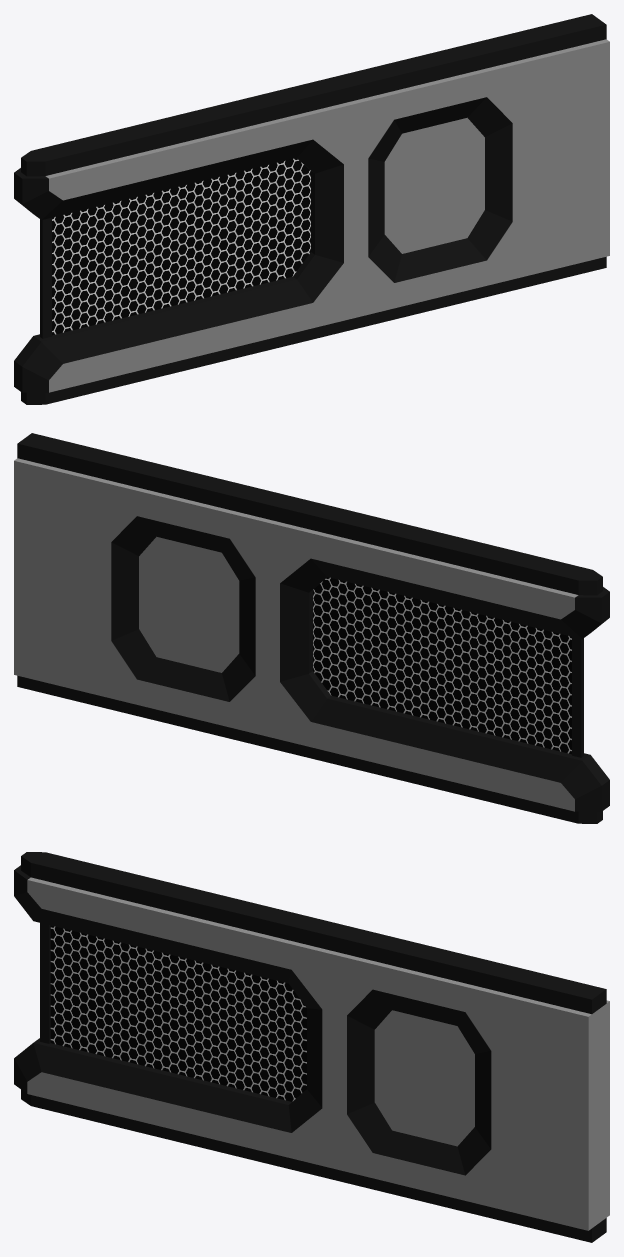
File: SM_GeneratorDynamo.FBX
3 views of the same model, one above another, from view 1: azimuth 30°, elevation 25°; view 2: azimuth 150°, elevation 25°; view 3: azimuth 330°, elevation 25° (orthographic).
Visible parts, largest first — view 1: Box001; view 2: Box001; view 3: Box001.
Part boxes in pixels (x1=…): Box001: x1=14, y1=14, x2=609, y2=404; Box001: x1=14, y1=433, x2=609, y2=823; Box001: x1=14, y1=852, x2=609, y2=1242.
Size of the model in its own units: 9843 by 3937 by 630.
3 materials, 1 textured.
